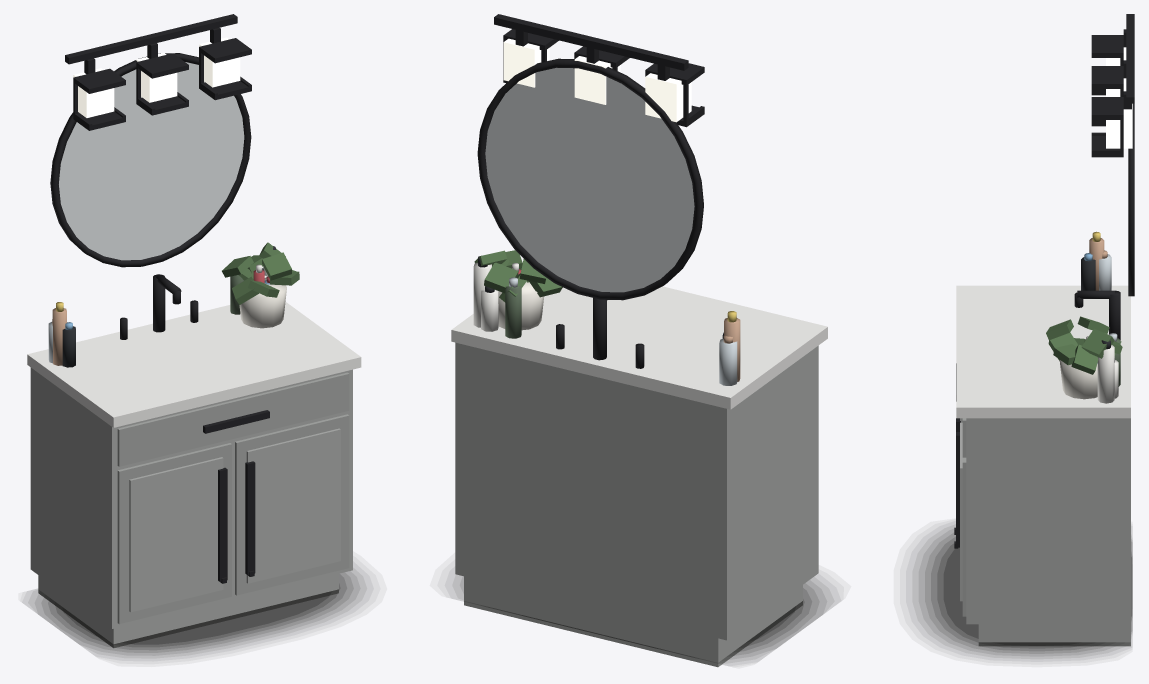
File: bath1f_vanity.glb
The picture shows the model from 3 angles, left to right: view 1: azimuth 30°, elevation 25°; view 2: azimuth 150°, elevation 25°; view 3: azimuth 270°, elevation 25°; orthographic projection. The views are drawn at different scales.
Parts seen in each view (by area): view 1: root; view 2: root; view 3: root.
Boxes of the visible parts, <box> form: root: <box>22,14,373,661</box>; root: <box>445,14,841,667</box>; root: <box>906,14,1134,661</box>.
Size of what is drawn, in the model's own units: 1.22 by 2.01 by 0.8415.
